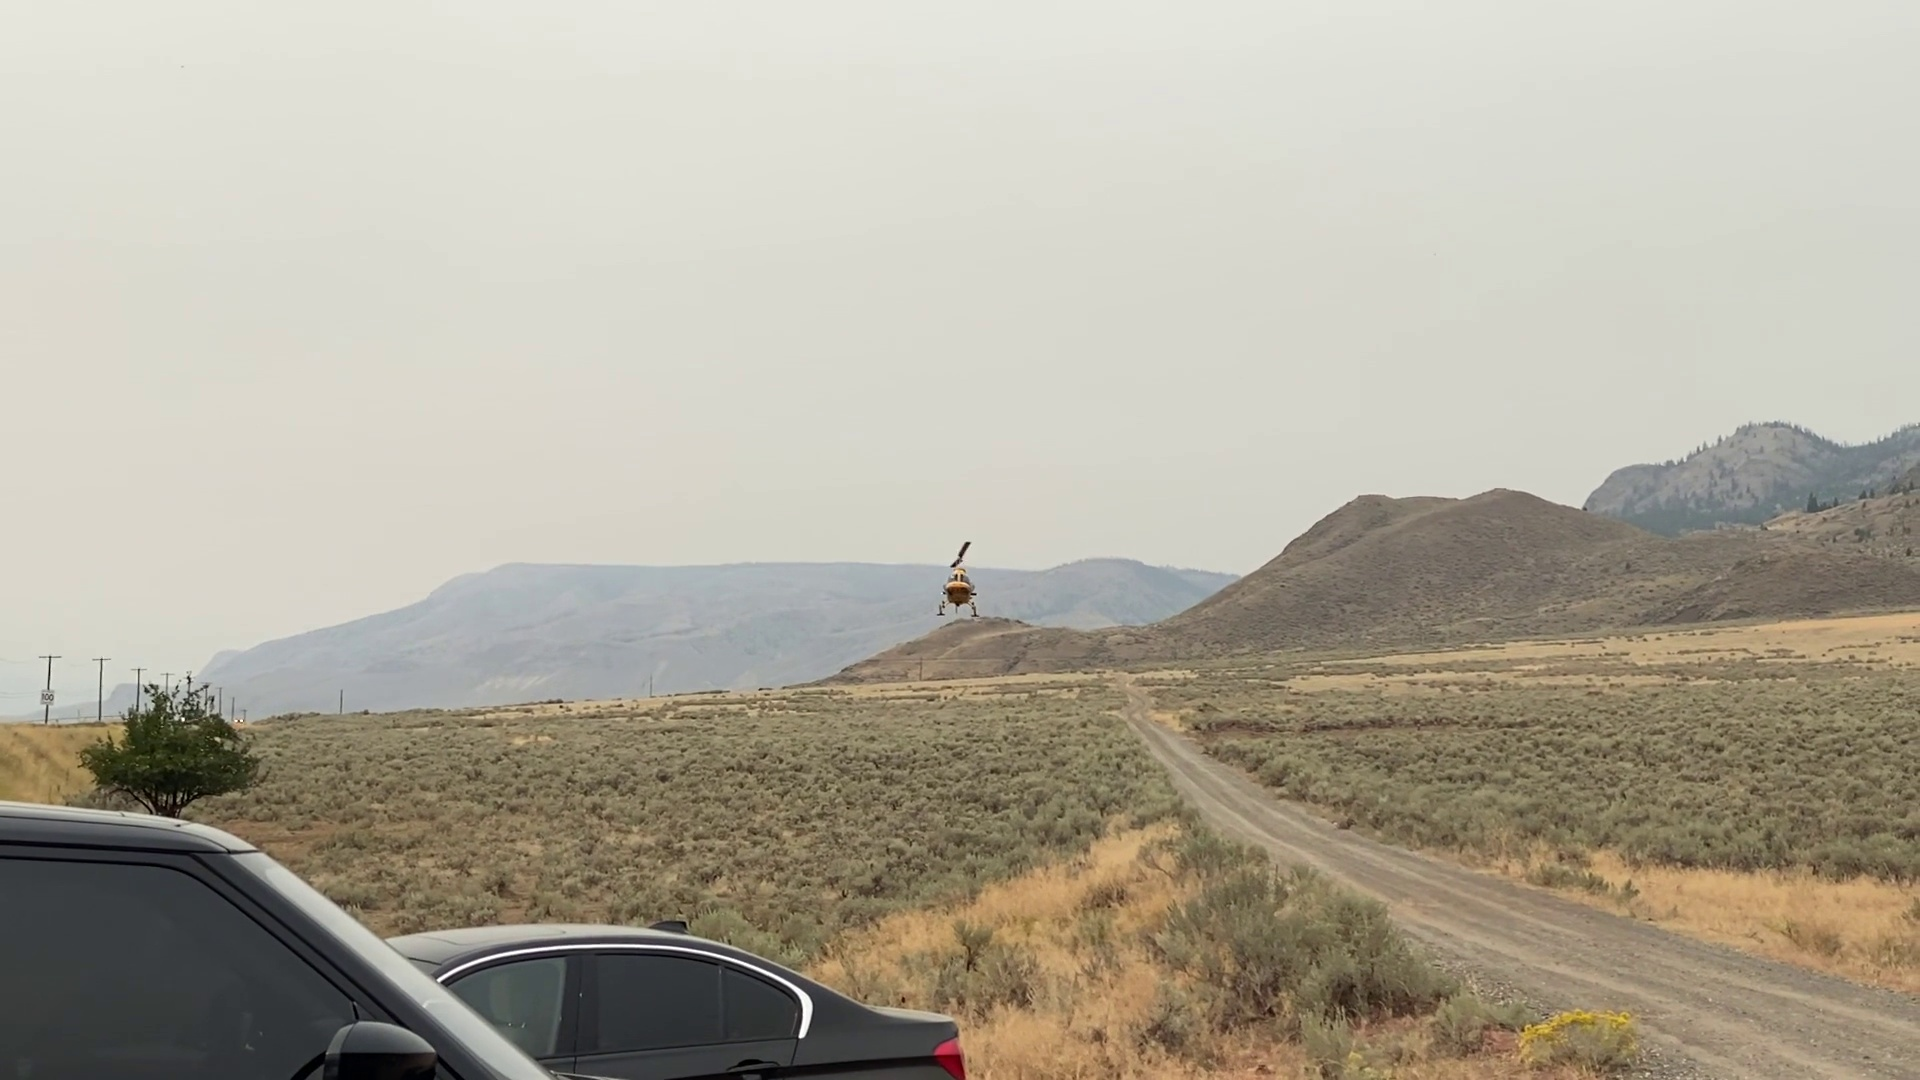heli: (936, 542, 981, 618)
